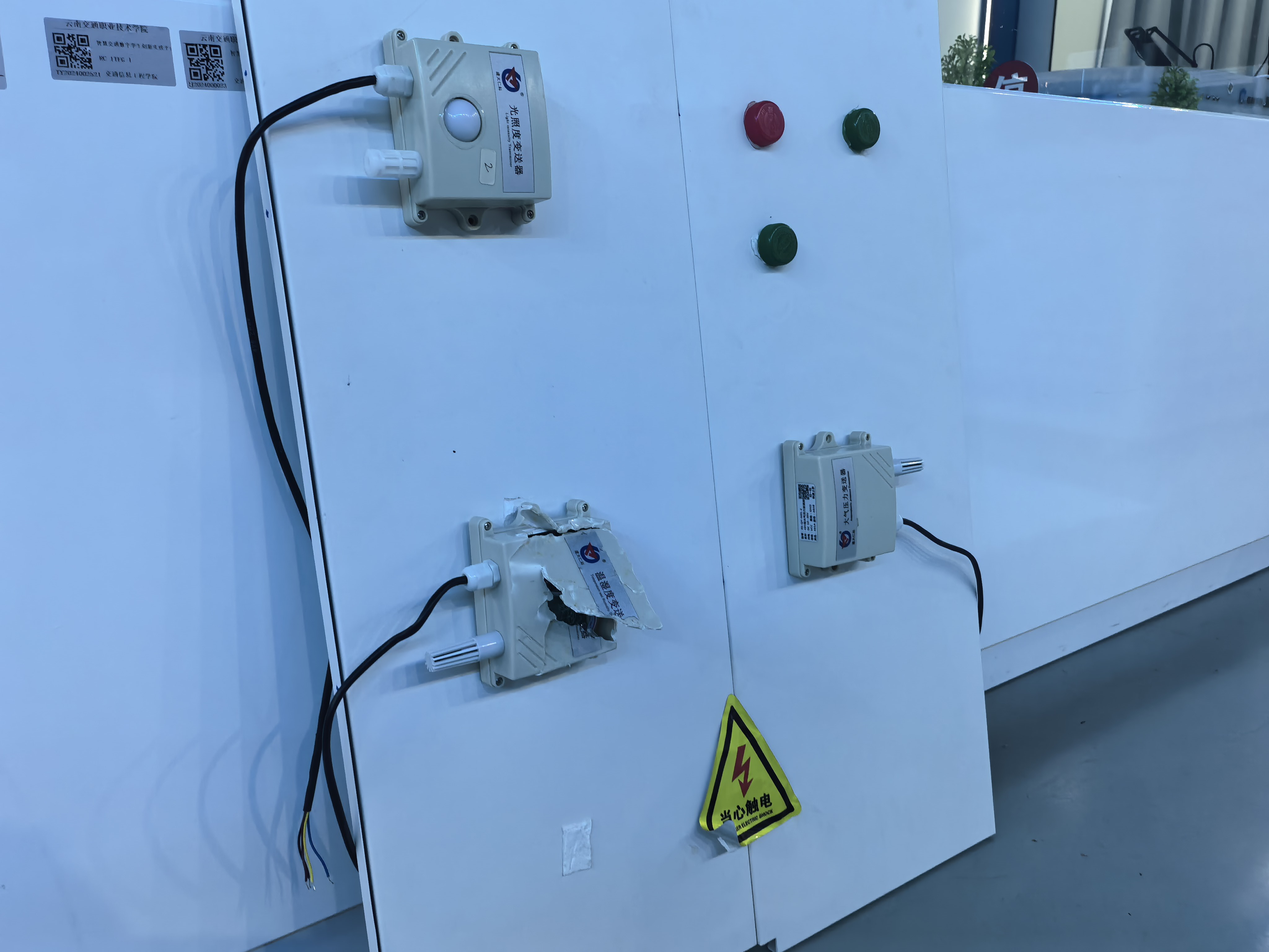red_warning: (722, 83, 803, 156)
sensor_damage: (405, 481, 690, 721)
